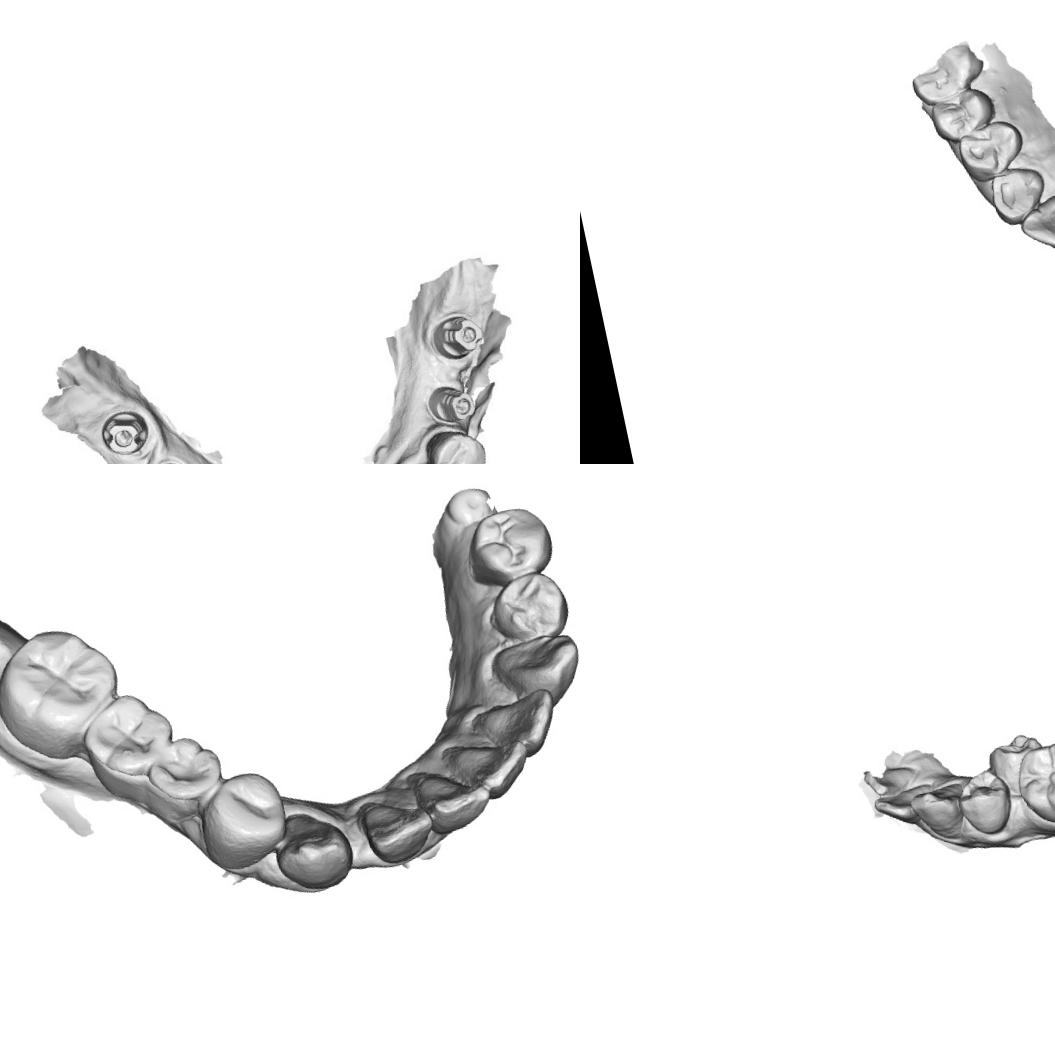canine: (268, 804, 358, 896), (490, 631, 580, 711), (985, 160, 1052, 228), (905, 780, 972, 846)
implant: (424, 304, 489, 376), (93, 397, 158, 464), (426, 374, 486, 432), (443, 480, 497, 528)
incisor: (446, 724, 530, 804), (360, 788, 439, 866), (423, 764, 500, 836), (486, 686, 556, 752), (872, 780, 940, 833), (1014, 190, 1055, 256)
molar: (0, 618, 127, 748), (75, 682, 182, 788), (1008, 733, 1055, 834)
premolar: (198, 767, 290, 867), (464, 501, 557, 586), (142, 728, 229, 818), (488, 564, 574, 648), (982, 728, 1054, 802), (954, 116, 1030, 186), (952, 765, 1020, 841), (926, 82, 1001, 146), (427, 424, 491, 464)
